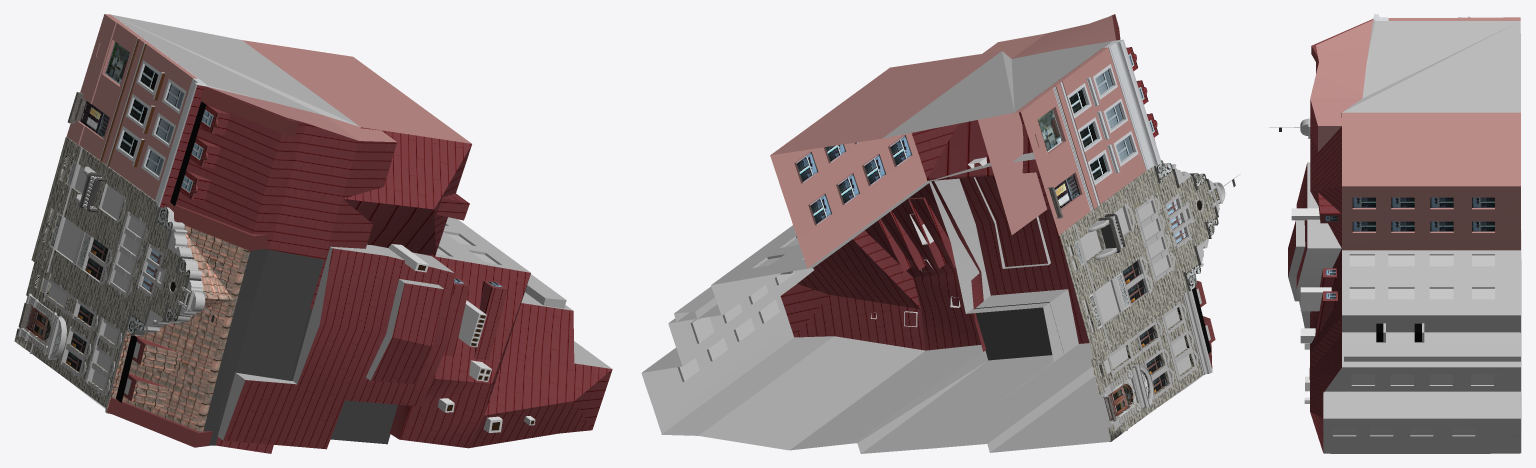
Rendered from Harju 9.obj.
The picture shows the model from 3 angles, left to right: view 1: azimuth 30°, elevation 25°; view 2: azimuth 150°, elevation 25°; view 3: azimuth 270°, elevation 25°; orthographic projection. The views are drawn at different scales.
Visible parts, largest first — view 1: Harju_9; view 2: Harju_9; view 3: Harju_9.
Part boxes in pixels (box(x1,y1,x2,y2)): Harju_9: box(14, 14, 612, 453); Harju_9: box(641, 14, 1239, 453); Harju_9: box(1269, 14, 1521, 453).
Size of the model in its own units: 37.78 by 31.38 by 23.36.
